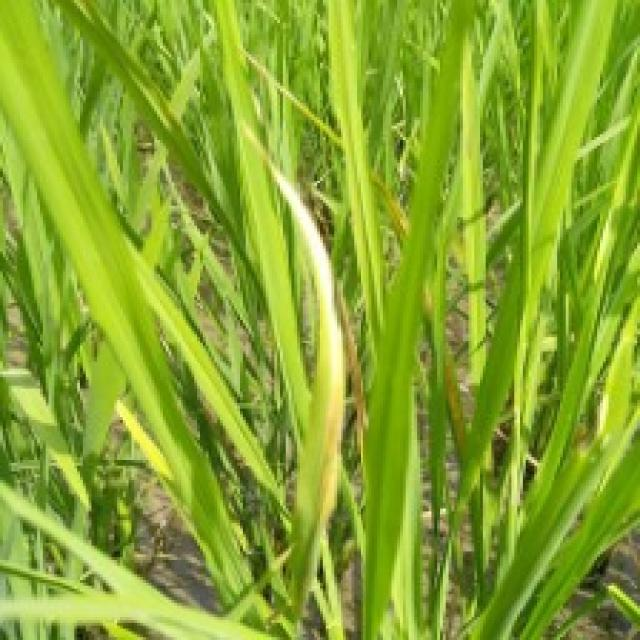Rice___Bacterial_Leaf_Blight: (249, 139, 348, 632)
